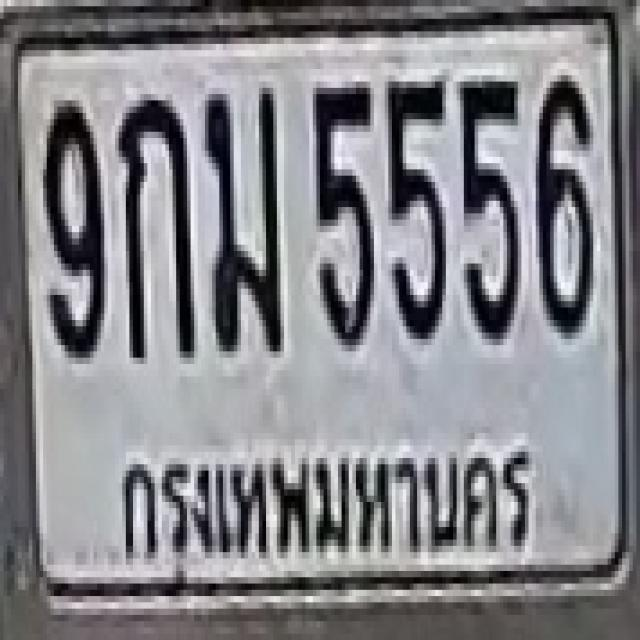5: (458, 75, 520, 339), (385, 75, 446, 339), (310, 78, 370, 342)
6: (534, 75, 591, 333)
9: (43, 94, 101, 351)
A01: (115, 91, 191, 354)
A33: (201, 82, 277, 345)
BKK: (109, 424, 536, 570)
